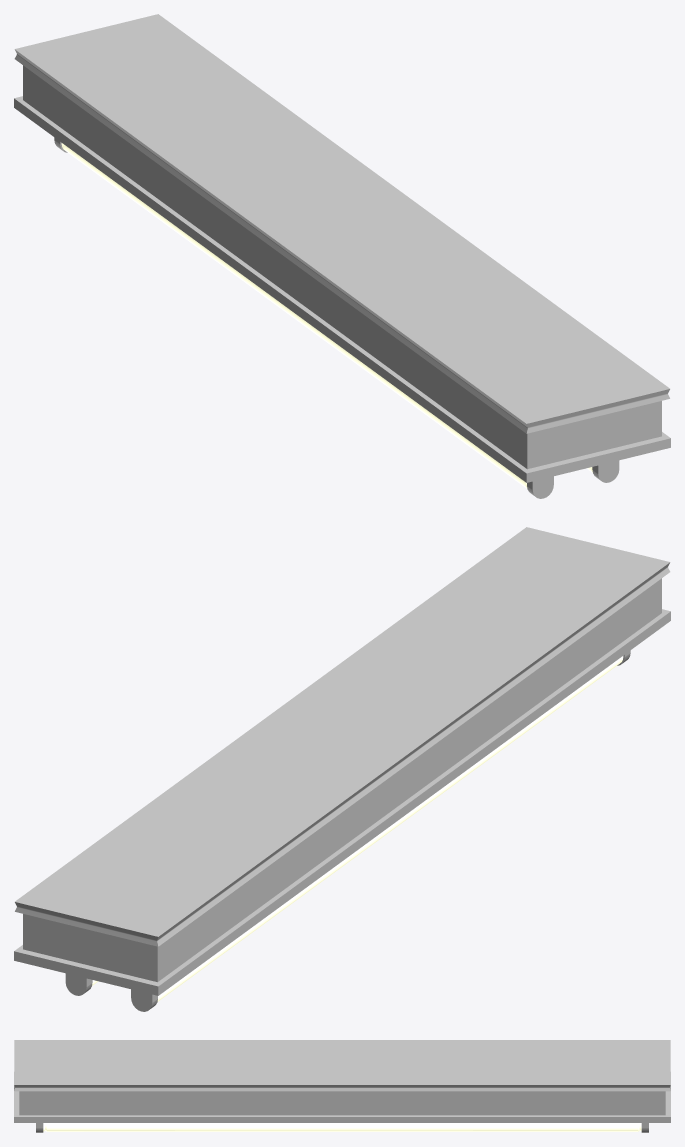
File: Light.fbx
3 renders of one model, top to bottom at view 1: azimuth 30°, elevation 25°; view 2: azimuth 150°, elevation 25°; view 3: azimuth 270°, elevation 25°, orthographic. The views are drawn at different scales.
Parts seen in each view (by area): view 1: Light, pCylinder6; view 2: Light, pCylinder6; view 3: Light, pCylinder5.
Part boxes in pixels (x1,y1,x2,y2): Light: [14, 14, 670, 498]; pCylinder6: [61, 143, 527, 488]; Light: [14, 527, 670, 1011]; pCylinder6: [157, 656, 623, 1001]; Light: [14, 1040, 670, 1132]; pCylinder5: [43, 1123, 641, 1131].
Bounding box in the file's own units: 8.52 × 5.37 × 52.38.
